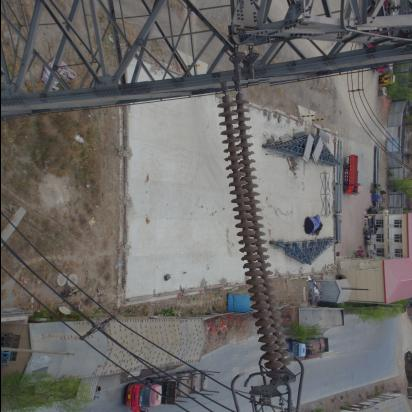insulator: (221, 80, 290, 388)
